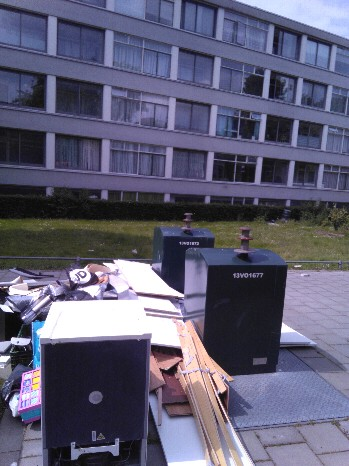Container: (181, 243, 294, 378), (157, 222, 207, 274)
Rest: (51, 292, 159, 466), (131, 256, 220, 466), (1, 267, 42, 411), (51, 245, 115, 317)
